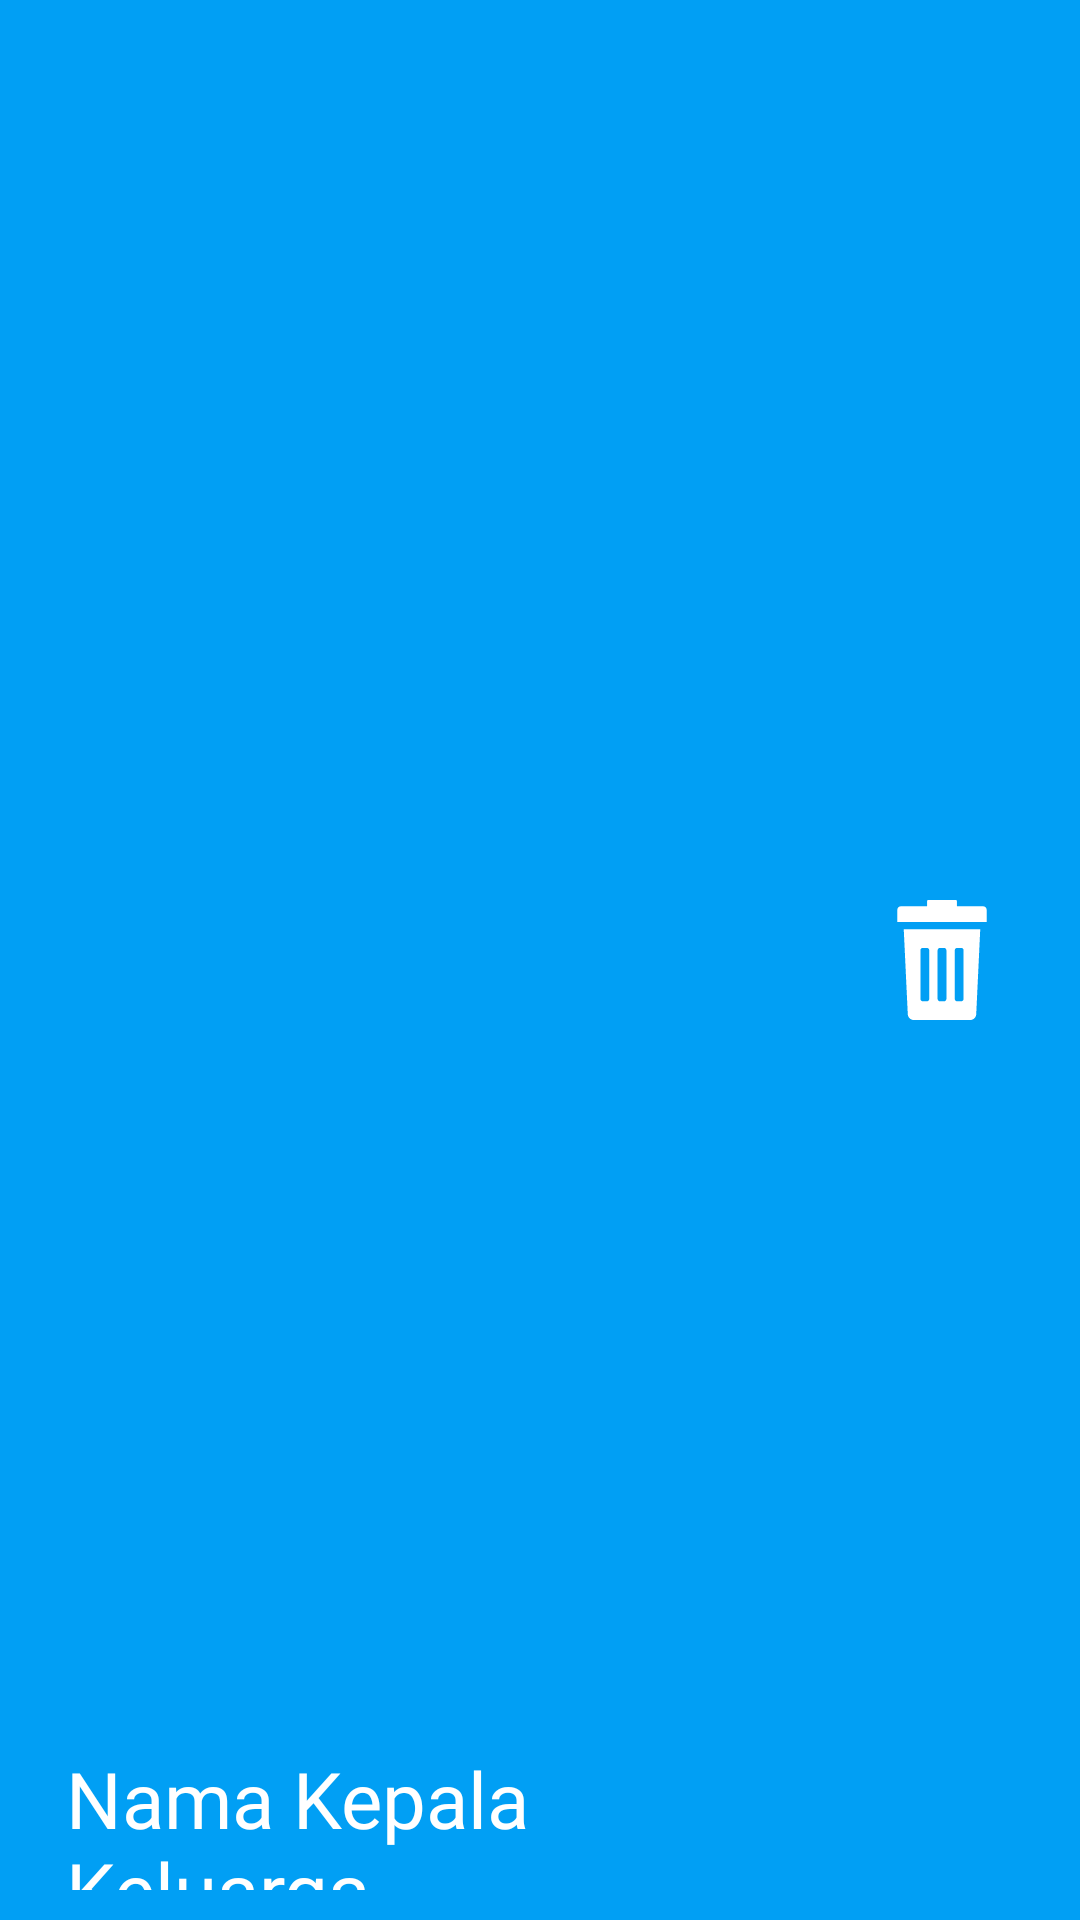

Icon click points for this 1080 x 1920 phone screenshot, format [x,y]:
rubbish bin: [942,960]
